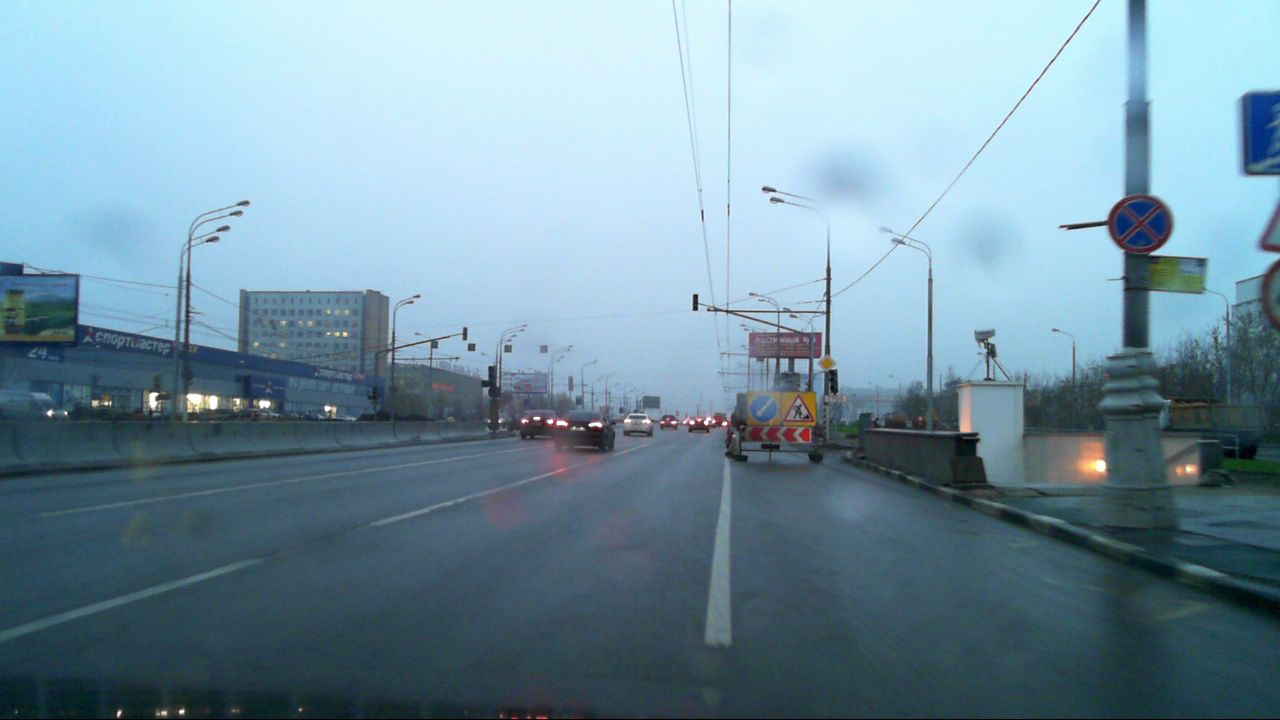No Parking: (1107, 192, 1174, 256)
